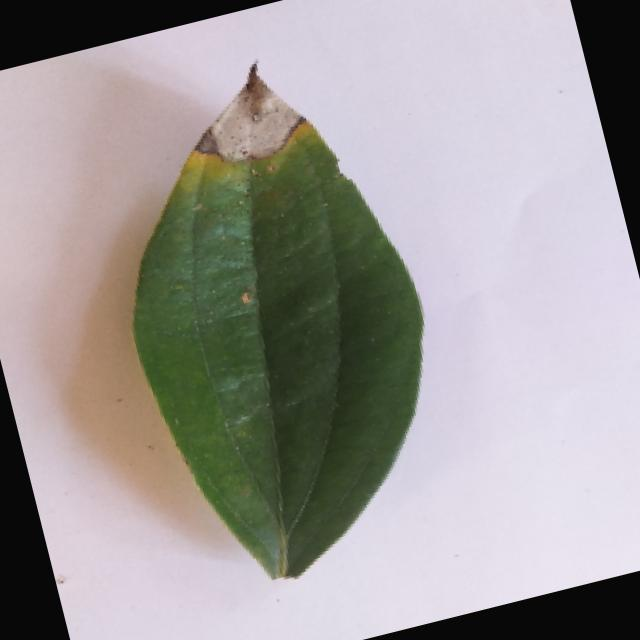footrot: (49, 38, 480, 610)
